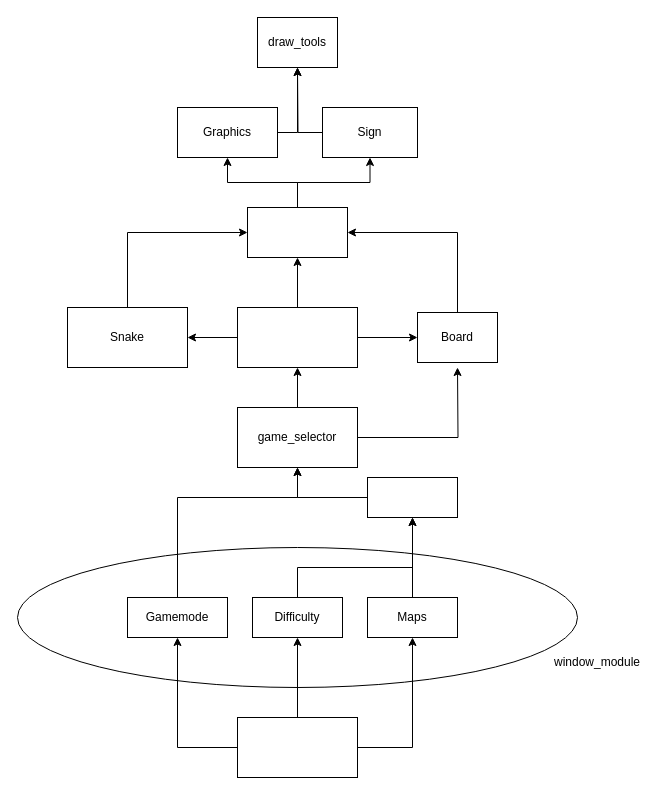
Image size: 658x795. Some labels were removed from this diagram. Each missing label, with the centre of its shape:
draw_module: [297,232]
Player: [297,337]
Settings: [412,497]
start_semestralka: [297,747]
